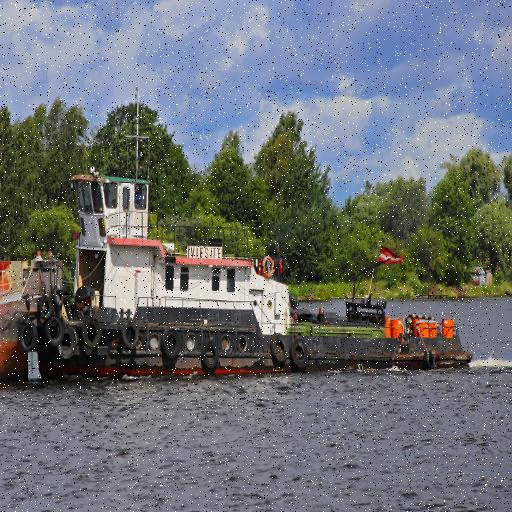tugboat: (33, 167, 478, 392)
